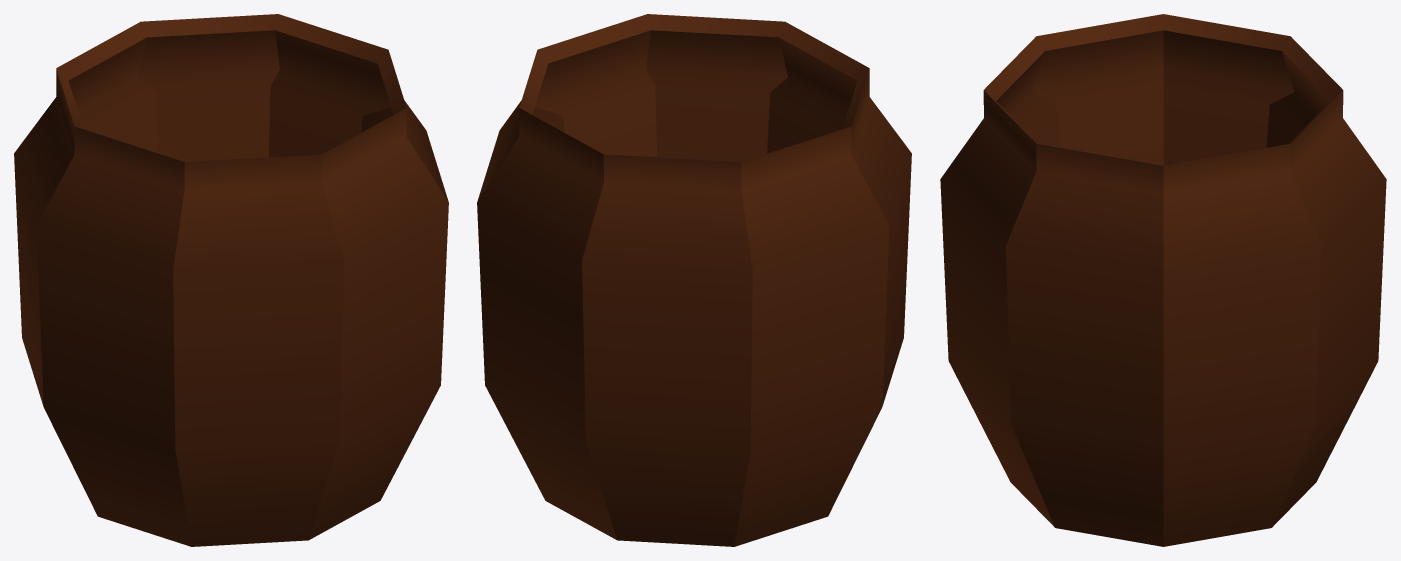
Rendered from Baby_pot.fbx.
The picture shows the model from 3 angles, left to right: view 1: azimuth 30°, elevation 25°; view 2: azimuth 150°, elevation 25°; view 3: azimuth 270°, elevation 25°; orthographic projection.
Visible parts, largest first — view 1: Baby_Pot; view 2: Baby_Pot; view 3: Baby_Pot.
Part boxes in pixels (bbox=[...]): Baby_Pot: bbox=[14, 14, 448, 546]; Baby_Pot: bbox=[477, 14, 911, 546]; Baby_Pot: bbox=[940, 14, 1386, 546].
Bounding box in the file's own units: 1.76 × 1.71 × 1.76.
